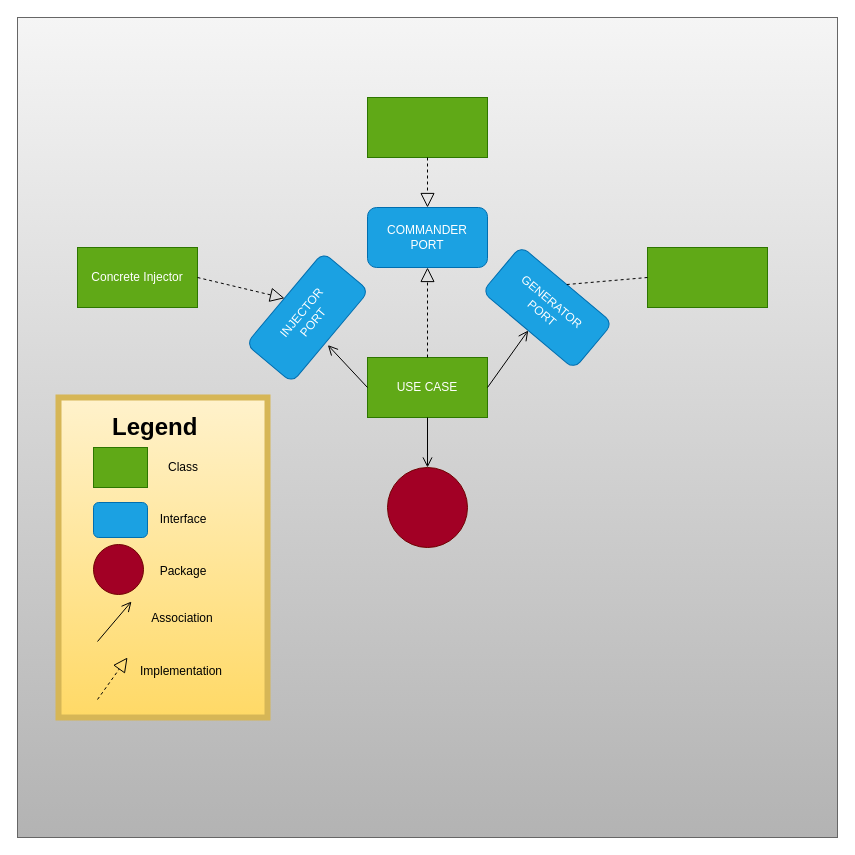
The diagram is 855 pixels wide and 855 high, and some of its shapes have lost their labels. Each missing label, with the centre of its shape:
Concrete commander: the point at 427,127
Concrete Generator: the point at 707,277
DOMAIN: the point at 427,507
